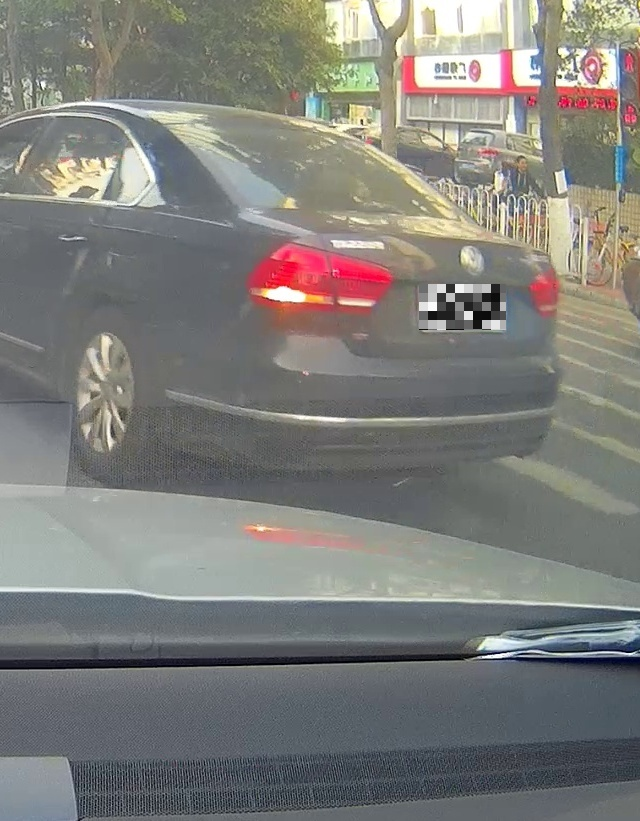L_light: (245, 242, 393, 318)
R_light: (529, 265, 559, 314)
T_light: (270, 128, 313, 139)
day-left: (181, 102, 561, 483)
plate_1: (419, 284, 506, 330)
